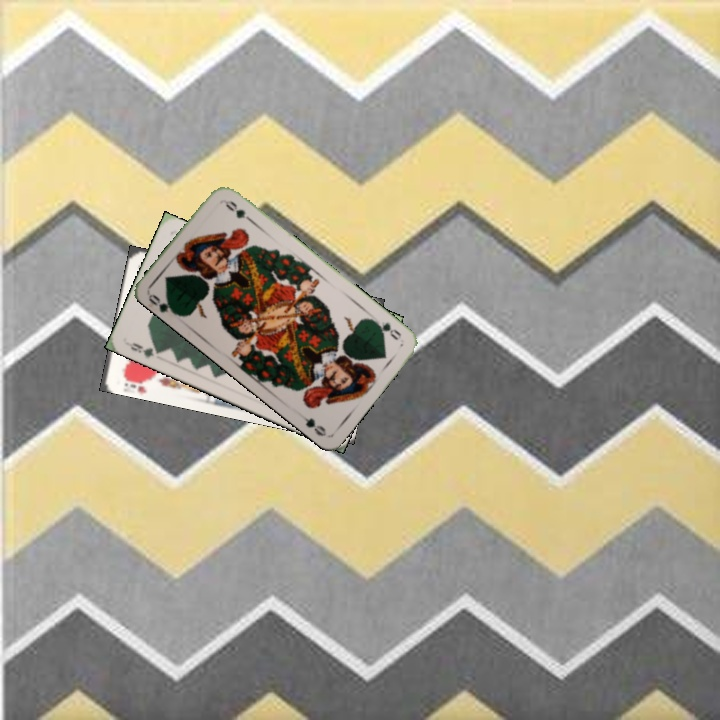G9: (123, 338, 164, 360)
GO: (144, 290, 182, 318), (369, 316, 404, 342)
HK: (119, 371, 154, 391)
